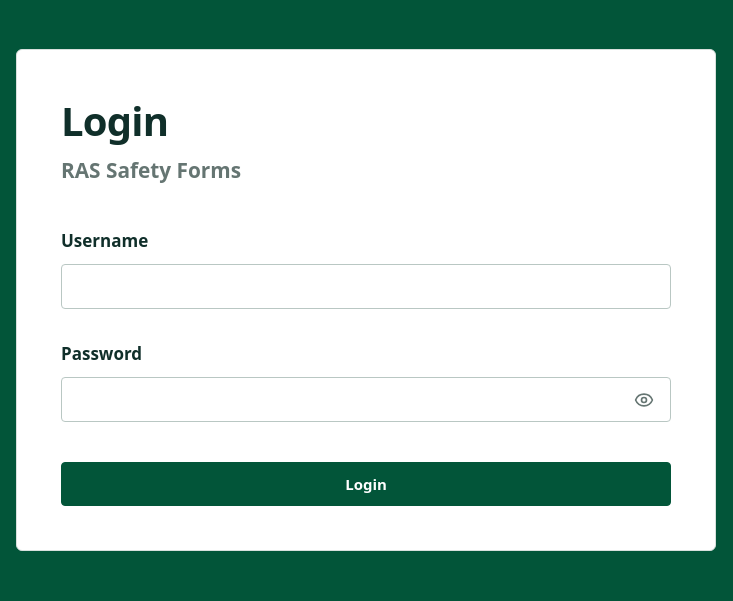
it: LoginPage › surfaces the rate limit message
In the field labelled "Username": (366,287) [61,264,671,309], type "alex"
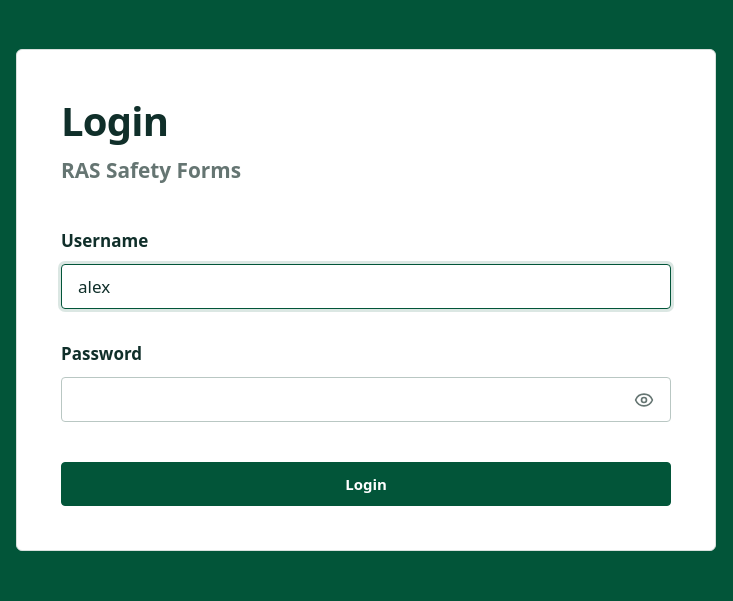
In the password field labelled "Password": (366,400) [61,377,671,422], type "secret-pass1!"
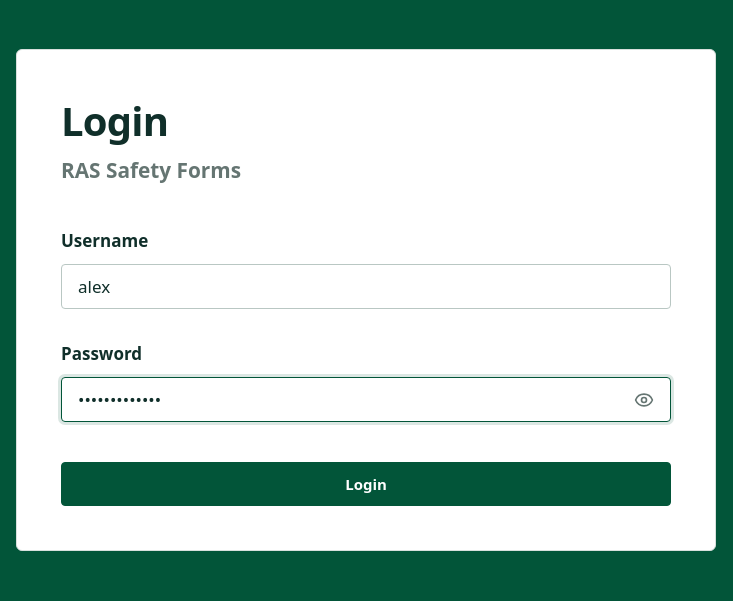
Click the button "Login": (366,484) [61,462,671,506]
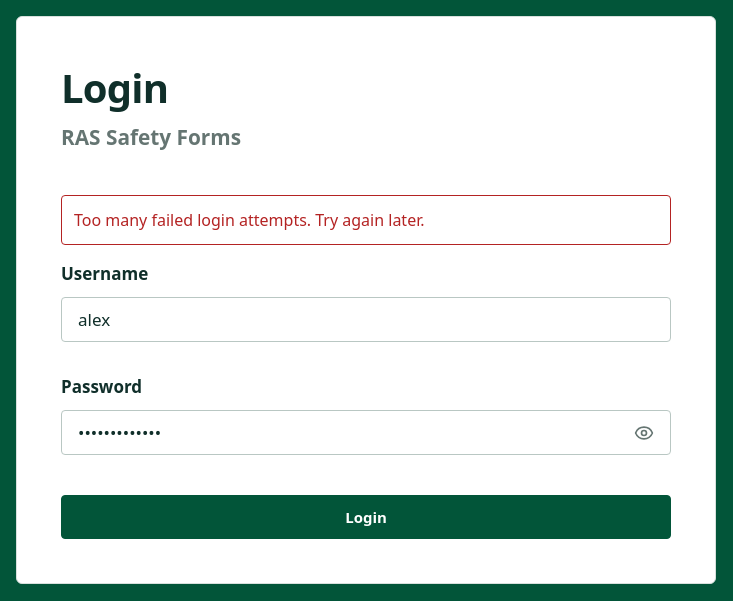
Result: the message shows "Too many failed login attempts" at [74,209,424,231]
